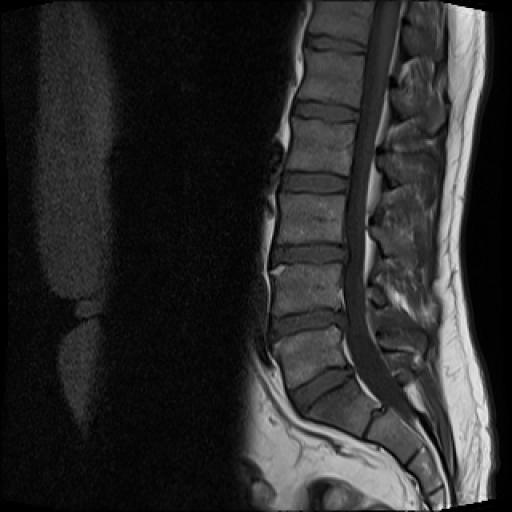L1: (298, 47, 365, 108)
L2: (286, 116, 356, 176)
L3: (276, 193, 346, 245)
L4: (272, 263, 342, 317)
L5: (273, 325, 346, 389)
S1: (307, 378, 381, 438)
